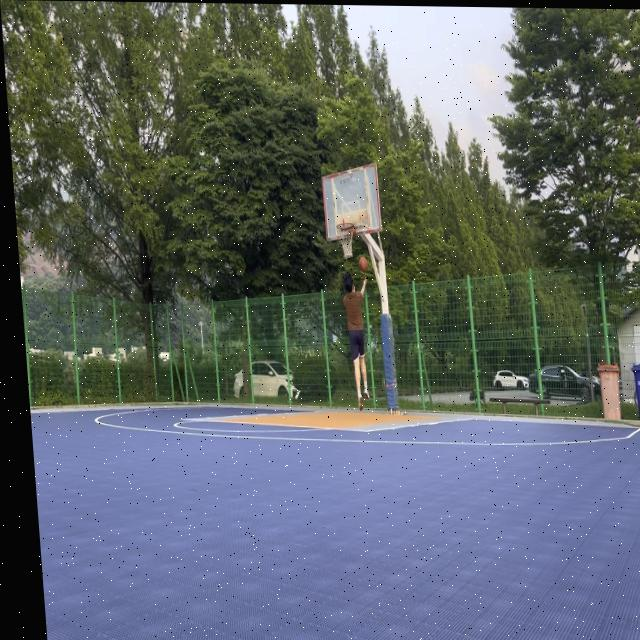basketball: (358, 256, 369, 272)
hoop: (336, 222, 357, 260)
